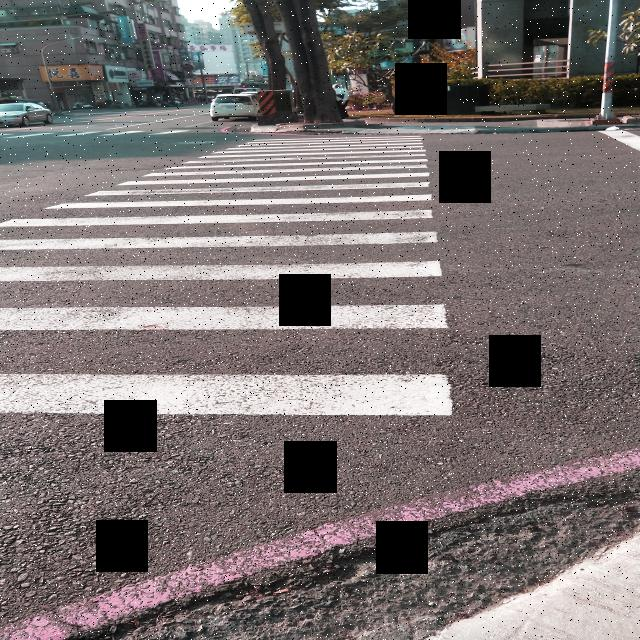zebra crossing: (0, 134, 449, 420), (0, 130, 191, 138)
